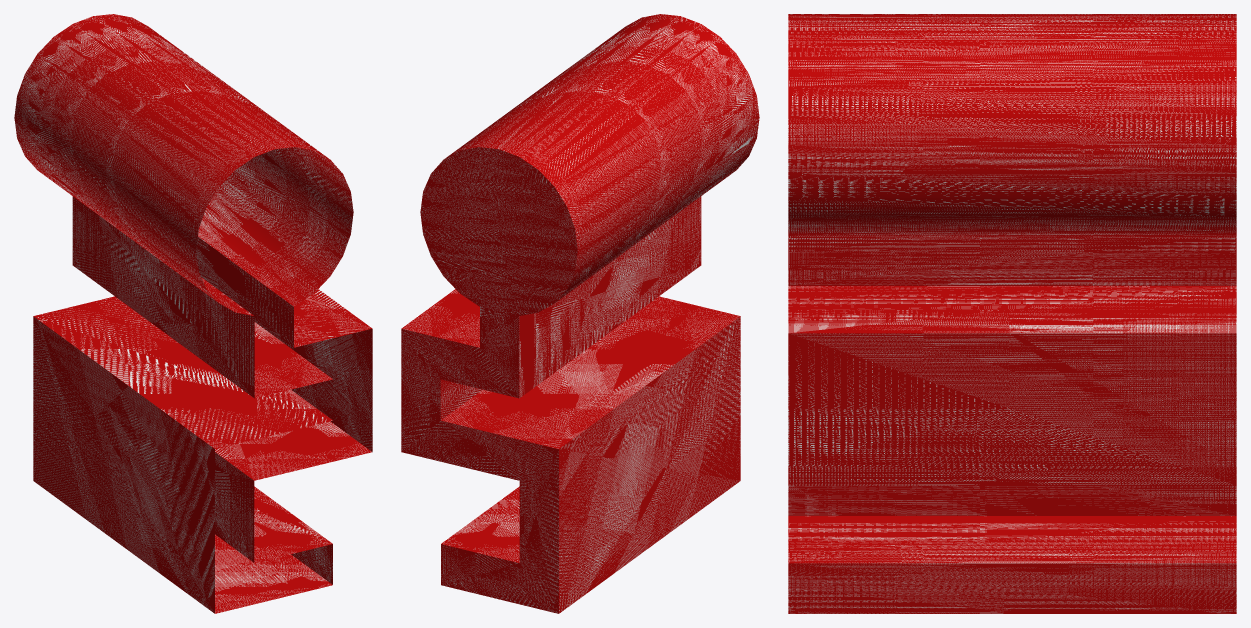
File: original-30.obj
3 views of the same model, side by side, from view 1: azimuth 30°, elevation 25°; view 2: azimuth 150°, elevation 25°; view 3: azimuth 270°, elevation 25° (orthographic). The views are drawn at different scales.
Visible parts, largest first — view 1: mesh33/mesh33-geometry/material_8#mesh33-geometry; view 2: mesh33/mesh33-geometry/material_8#mesh33-geometry; view 3: mesh33/mesh33-geometry/material_8#mesh33-geometry.
Boxes of the visible parts, x1=… form: mesh33/mesh33-geometry/material_8#mesh33-geometry: x1=14, y1=14, x2=372, y2=613; mesh33/mesh33-geometry/material_8#mesh33-geometry: x1=401, y1=14, x2=759, y2=613; mesh33/mesh33-geometry/material_8#mesh33-geometry: x1=788, y1=14, x2=1236, y2=613.
Size of the model in its own units: 0.0217 by 0.0528 by 0.0387.
